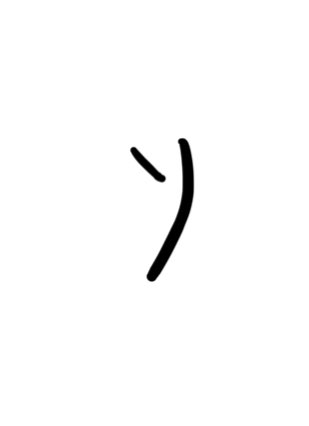so: (122, 133, 199, 299)
